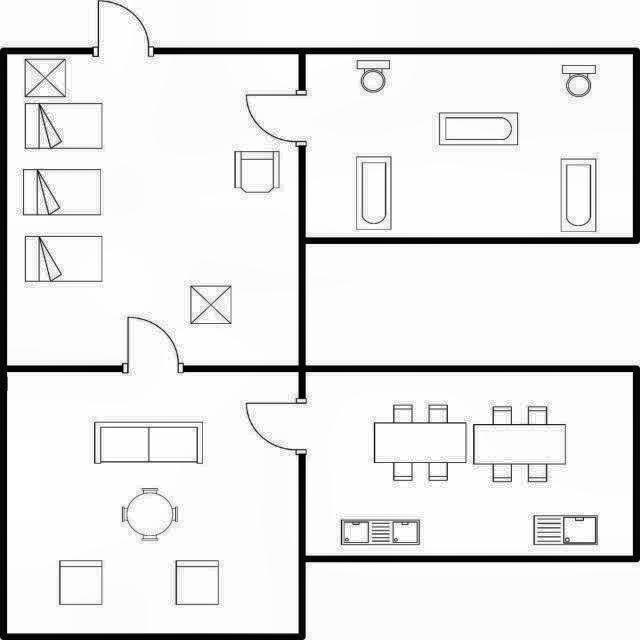room: (7, 54, 299, 366), (7, 372, 298, 633), (306, 372, 633, 556), (306, 54, 633, 237)
